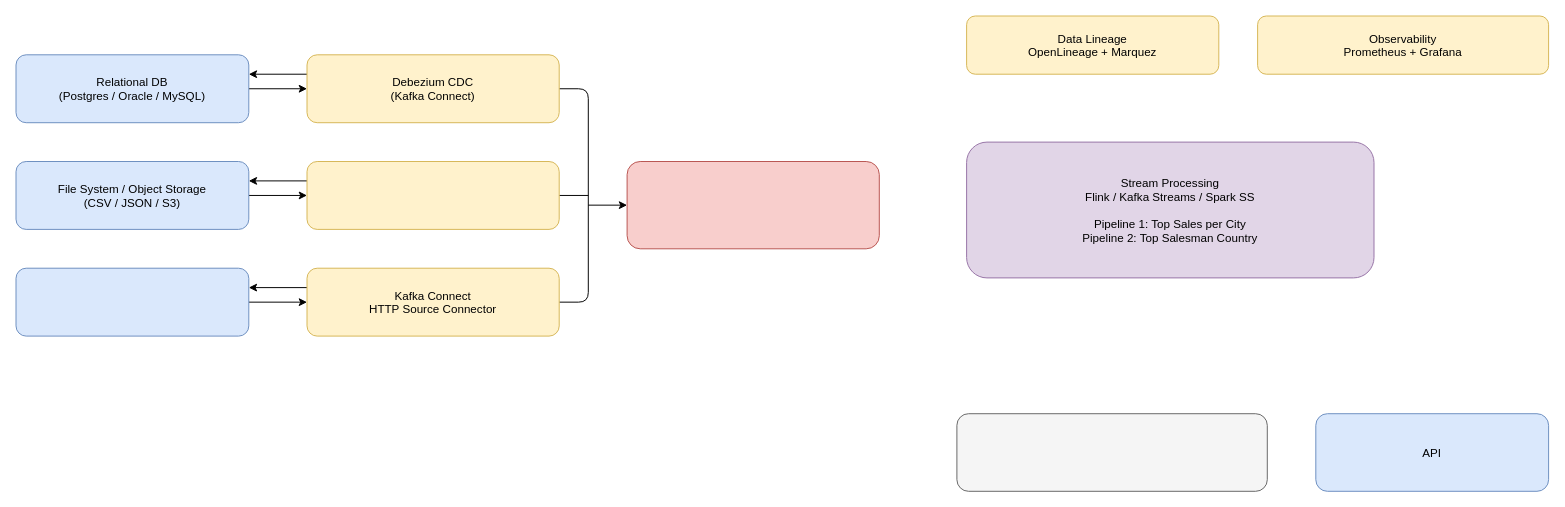
This 1565x507 diagram has some shape labels left out. The shapes that lost their labels are listed below. From the top down, each one's centre as x and y in pixels, then its label:
At [432,195]: "Kafka Connect File System / S3 Source Connector".
At [752,205]: "Apache Kafka cluster (MSK)".
At [132,301]: "External Web Service (REST / WS-*)".
At [1111,452]: "Analytical Database (ClickHouse / Druid / Postgres)".
